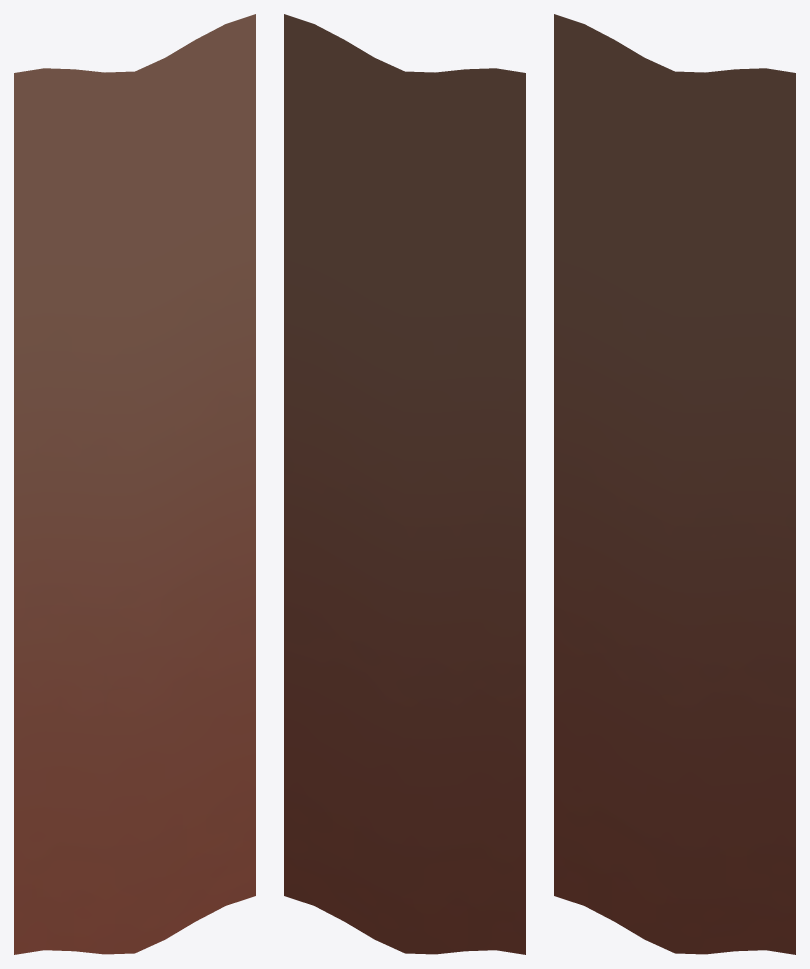
Rendered from Curtain.fbx.
The picture shows the model from 3 angles, left to right: view 1: azimuth 30°, elevation 25°; view 2: azimuth 150°, elevation 25°; view 3: azimuth 330°, elevation 25°; orthographic projection.
Parts seen in each view (by area): view 1: Wall.001; view 2: Wall.001; view 3: Wall.001.
Boxes of the visible parts, bbox=[...] form: Wall.001: bbox=[14, 14, 255, 954]; Wall.001: bbox=[284, 14, 525, 954]; Wall.001: bbox=[554, 14, 795, 954].
Size of the model in its own units: 0 by 3.05 by 0.8477.
